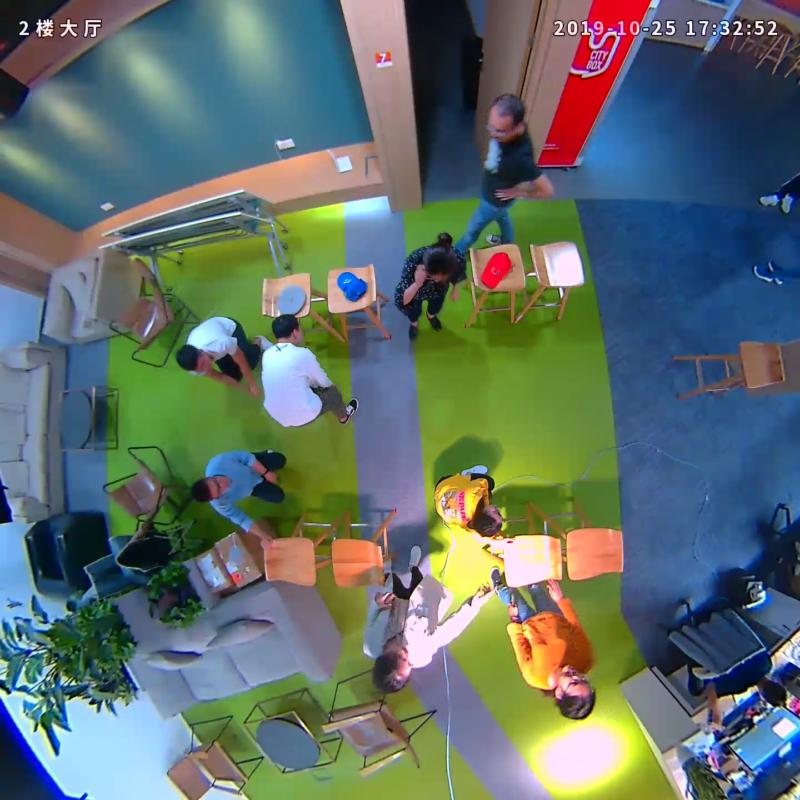head: (545, 654, 599, 723), (476, 89, 535, 145), (366, 644, 420, 697), (414, 232, 463, 289), (170, 341, 217, 380), (465, 501, 510, 541), (260, 308, 303, 347), (188, 473, 229, 510)
